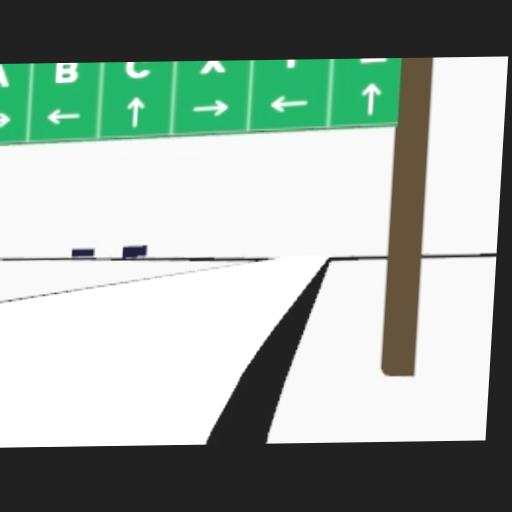A: (0, 63, 10, 86)
B: (53, 63, 79, 83)
C: (123, 62, 150, 78)
Left: (267, 93, 311, 112), (46, 108, 81, 124)
Right: (191, 99, 230, 117), (0, 112, 11, 128)
Straight: (359, 81, 382, 114), (125, 96, 145, 126)
X: (200, 61, 226, 72)
Y: (280, 60, 298, 68)
Z: (359, 58, 387, 63)
